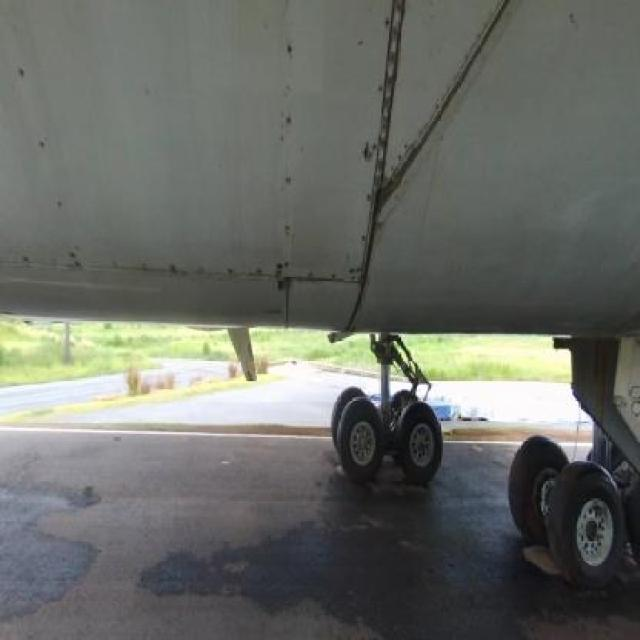Missing-Rivet: (14, 46, 92, 280), (110, 240, 338, 309), (276, 24, 306, 276)
Rust: (358, 128, 378, 172)
